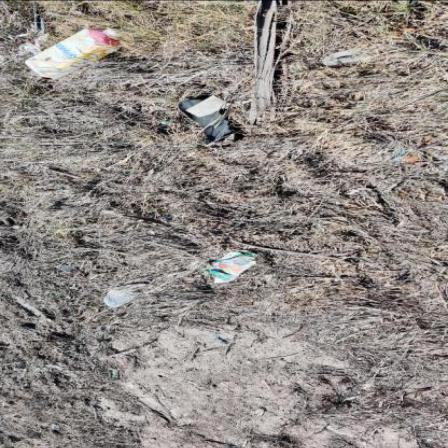Bottle: (26, 29, 124, 81), (105, 290, 139, 309)
Bottle cap: (105, 29, 123, 38)
Other litter: (207, 251, 257, 281)
Unlabeled litter: (178, 98, 239, 146), (185, 97, 231, 118), (19, 35, 51, 58), (216, 274, 242, 283), (216, 338, 232, 345), (393, 153, 407, 159), (164, 120, 178, 126), (113, 371, 118, 378), (214, 332, 217, 335)
